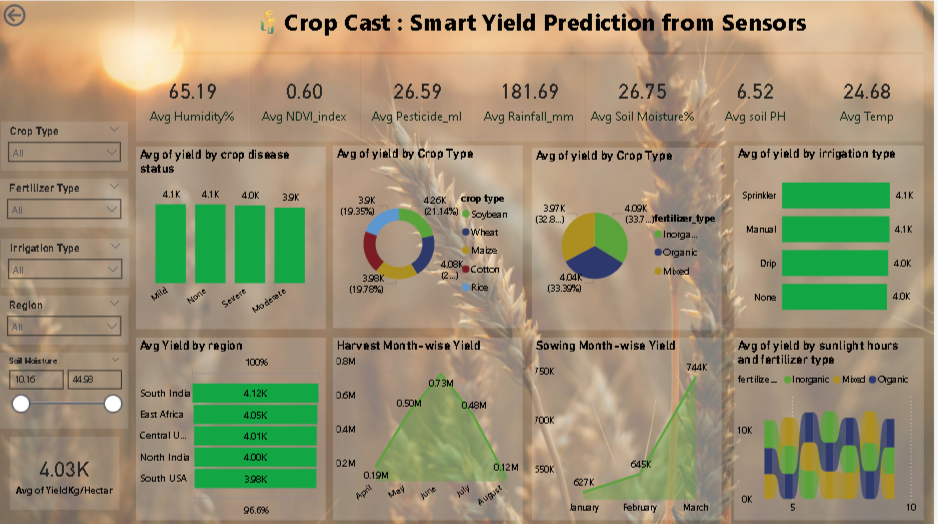

The dashboard page shown, as its layout file describes it:
{"tool":"powerbi","page":{"name":"Page 1","canvas":[1280,720],"ordinal":0},"visuals":[{"type":"textbox","box":[185,0,1080,70],"z":0},{"type":"card","fields":{"Values":["Avg(Smart_Farming_Crop_Yield_2024.humidity_%)"]},"box":[185.7,74.3,154.3,118.6],"z":3000},{"type":"card","fields":{"Values":["Avg(Smart_Farming_Crop_Yield_2024.NDVI_index)"]},"box":[340,74.3,154.3,118.6],"z":4000},{"type":"card","fields":{"Values":["Avg(Smart_Farming_Crop_Yield_2024.pesticide_usage_ml)"]},"box":[494.3,74.3,154.3,118.6],"z":5000},{"type":"card","fields":{"Values":["Avg(Smart_Farming_Crop_Yield_2024.rainfall_mm)"]},"box":[648.6,74.3,154.3,118.6],"z":6000},{"type":"card","fields":{"Values":["Avg(Smart_Farming_Crop_Yield_2024.soil_moisture_%)"]},"box":[802.9,74.3,154.3,118.6],"z":7000},{"type":"card","fields":{"Values":["Avg(Smart_Farming_Crop_Yield_2024.soil_pH)"]},"box":[957.1,74.3,154.3,118.6],"z":8000},{"type":"card","fields":{"Values":["Avg(Smart_Farming_Crop_Yield_2024.temperature_C)"]},"box":[1111.4,74.3,154.3,118.6],"z":9000},{"type":"card","fields":{"Values":["Avg(Smart_Farming_Crop_Yield_2024.yield_kg_per_hectare)"]},"box":[14.3,597.1,150,100],"z":10000},{"type":"columnChart","fields":{"Category":["Smart_Farming_Crop_Yield_2024.crop_disease_status"],"Y":["Avg(Smart_Farming_Crop_Yield_2024.yield_kg_per_hectare)"]},"box":[185.7,200,260,250],"z":11000},{"type":"donutChart","title":"Avg of yield by Crop Type","fields":{"Y":["Avg(Smart_Farming_Crop_Yield_2024.yield_kg_per_hectare)"],"Category":["Smart_Farming_Crop_Yield_2024.crop_type"]},"box":[455.7,198.6,260,250],"z":12000},{"type":"pieChart","title":"Avg of yield by Crop Type","fields":{"Y":["Avg(Smart_Farming_Crop_Yield_2024.yield_kg_per_hectare)"],"Category":["Smart_Farming_Crop_Yield_2024.fertilizer_type"]},"box":[728.6,201.4,260,250],"z":13000},{"type":"barChart","title":"Avg of yield by irrigation type","fields":{"Category":["Smart_Farming_Crop_Yield_2024.irrigation_type"],"Y":["Avg(Smart_Farming_Crop_Yield_2024.yield_kg_per_hectare)"]},"box":[1005.7,198.6,260,250],"z":14000},{"type":"funnel","title":"Avg Yield by region","fields":{"Y":["Avg(Smart_Farming_Crop_Yield_2024.yield_kg_per_hectare)"],"Category":["Smart_Farming_Crop_Yield_2024.region"]},"box":[185.7,461.4,260,250],"z":15000},{"type":"areaChart","title":"Harvest Month-wise Yield","fields":{"Category":["Smart_Farming_Crop_Yield_2024.harvest_date.Variation.Date Hierarchy.Month"],"Y":["Sum(Smart_Farming_Crop_Yield_2024.yield_kg_per_hectare)"]},"box":[455.7,461.4,260,250],"z":16000},{"type":"areaChart","title":"Sowing Month-wise Yield","fields":{"Category":["Smart_Farming_Crop_Yield_2024.sowing_date.Variation.Date Hierarchy.Month"],"Y":["Sum(Smart_Farming_Crop_Yield_2024.yield_kg_per_hectare)"]},"box":[728.6,461.4,260,250],"z":17000},{"type":"ribbonChart","fields":{"Category":["Smart_Farming_Crop_Yield_2024.sunlight_hours (bins) 2"],"Y":["Avg(Smart_Farming_Crop_Yield_2024.yield_kg_per_hectare)"],"Series":["Smart_Farming_Crop_Yield_2024.fertilizer_type"]},"box":[1005.7,461.4,260,250],"z":18000},{"type":"slicer","fields":{"Values":["Smart_Farming_Crop_Yield_2024.crop_type"]},"box":[1.4,165.7,174.3,67.1],"z":19000},{"type":"slicer","fields":{"Values":["Smart_Farming_Crop_Yield_2024.fertilizer_type"]},"box":[0,244.3,175.7,67.1],"z":20000},{"type":"slicer","fields":{"Values":["Smart_Farming_Crop_Yield_2024.irrigation_type"]},"box":[1.4,325.7,175.7,67.1],"z":21000},{"type":"actionButton","box":[0,0,100,40],"z":22000},{"type":"slicer","fields":{"Values":["Smart_Farming_Crop_Yield_2024.region"]},"box":[0,404.3,175.7,67.1],"z":23000},{"type":"slicer","fields":{"Values":["Smart_Farming_Crop_Yield_2024.soil_moisture_%"]},"box":[0,482.9,175.7,104.3],"z":24000}]}

Visuals, with their boxes in screenshot pixels (x1, y1, x2, y2), scaled from the page's 1280x720 canvas onto the 938x524 screenshot:
textbox: l=136, t=0, r=927, b=51
card - Avg(Smart_Farming_Crop_Yield_2024.humidity_%): l=136, t=54, r=249, b=140
card - Avg(Smart_Farming_Crop_Yield_2024.NDVI_index): l=249, t=54, r=362, b=140
card - Avg(Smart_Farming_Crop_Yield_2024.pesticide_usage_ml): l=362, t=54, r=475, b=140
card - Avg(Smart_Farming_Crop_Yield_2024.rainfall_mm): l=475, t=54, r=588, b=140
card - Avg(Smart_Farming_Crop_Yield_2024.soil_moisture_%): l=588, t=54, r=701, b=140
card - Avg(Smart_Farming_Crop_Yield_2024.soil_pH): l=701, t=54, r=814, b=140
card - Avg(Smart_Farming_Crop_Yield_2024.temperature_C): l=814, t=54, r=928, b=140
card - Avg(Smart_Farming_Crop_Yield_2024.yield_kg_per_hectare): l=10, t=435, r=120, b=507
columnChart - Smart_Farming_Crop_Yield_2024.crop_disease_status x Avg(Smart_Farming_Crop_Yield_2024.yield_kg_per_hectare): l=136, t=146, r=327, b=328
"Avg of yield by Crop Type" donutChart: l=334, t=145, r=524, b=326
"Avg of yield by Crop Type" pieChart: l=534, t=147, r=724, b=329
"Avg of yield by irrigation type" barChart: l=737, t=145, r=928, b=326
"Avg Yield by region" funnel: l=136, t=336, r=327, b=518
"Harvest Month-wise Yield" areaChart: l=334, t=336, r=524, b=518
"Sowing Month-wise Yield" areaChart: l=534, t=336, r=724, b=518
ribbonChart - Smart_Farming_Crop_Yield_2024.sunlight_hours (bins) 2 x Avg(Smart_Farming_Crop_Yield_2024.yield_kg_per_hectare): l=737, t=336, r=928, b=518
slicer - Smart_Farming_Crop_Yield_2024.crop_type: l=1, t=121, r=129, b=169
slicer - Smart_Farming_Crop_Yield_2024.fertilizer_type: l=0, t=178, r=129, b=227
slicer - Smart_Farming_Crop_Yield_2024.irrigation_type: l=1, t=237, r=130, b=286
actionButton: l=0, t=0, r=73, b=29
slicer - Smart_Farming_Crop_Yield_2024.region: l=0, t=294, r=129, b=343
slicer - Smart_Farming_Crop_Yield_2024.soil_moisture_%: l=0, t=351, r=129, b=427
